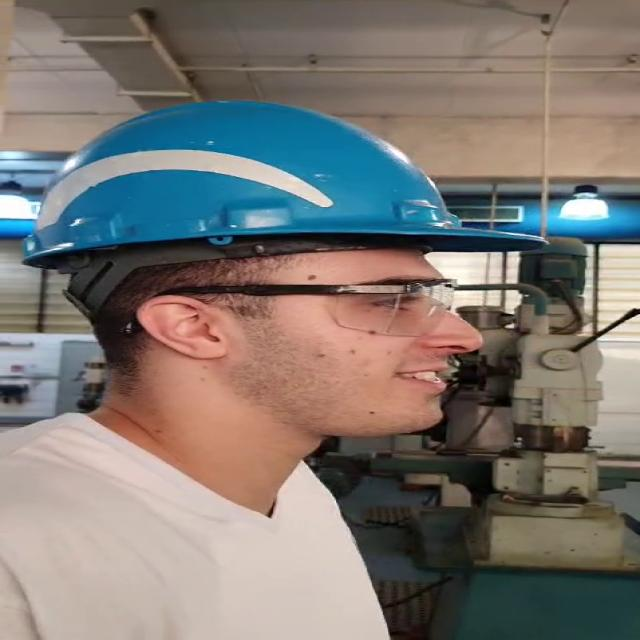oculos-epi: (158, 279, 455, 337)
